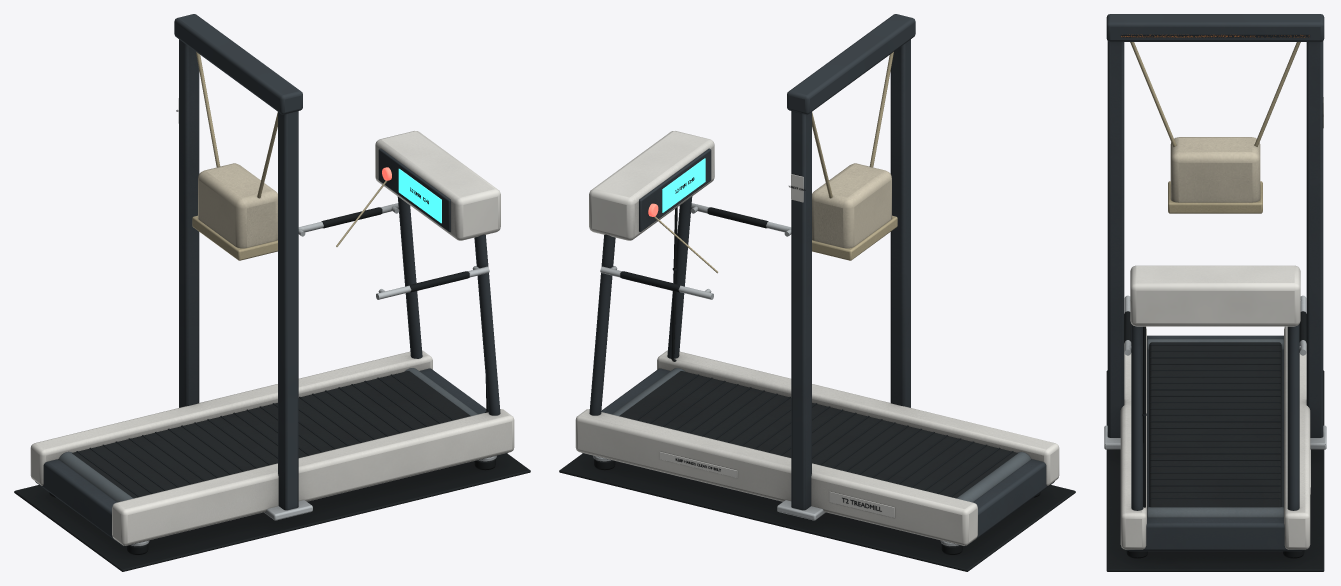
Rendered from treadmill.glb.
3 renders of one model, left to right at view 1: azimuth 30°, elevation 25°; view 2: azimuth 150°, elevation 25°; view 3: azimuth 270°, elevation 25°, orthographic.
Parts seen in each view (by area): view 1: belt_bed_belt_rubber, side_cover_right_shell_white, floor_mat_black_rubber, gantry_post_r_frame_graphite, side_cover_left_shell_white, gantry_post_l_frame_graphite, console_body_shell_white, Harness_vest_nomex_fabric, gantry_beam_frame_graphite, deck_frame_frame_graphite, Belt_Slats_deep_graphite, mast_r_frame_graphite (+6 smaller); view 2: belt_bed_belt_rubber, side_cover_left_shell_white, floor_mat_black_rubber, gantry_post_l_frame_graphite, side_cover_right_shell_white, gantry_post_r_frame_graphite, console_body_shell_white, Harness_vest_nomex_fabric, gantry_beam_frame_graphite, deck_frame_frame_graphite, Belt_Slats_deep_graphite, mast_l_frame_graphite (+8 smaller); view 3: belt_bed_belt_rubber, console_body_shell_white, floor_mat_black_rubber, gantry_post_l_frame_graphite, gantry_post_r_frame_graphite, deck_frame_frame_graphite, gantry_beam_frame_graphite, Harness_vest_nomex_fabric, Belt_Slats_deep_graphite, side_cover_left_shell_white, side_cover_right_shell_white, mast_l_frame_graphite (+6 smaller).
Part boxes in pixels (x1,y1,x2,y2): belt_bed_belt_rubber: [72, 371, 470, 498]; side_cover_right_shell_white: [112, 409, 514, 545]; floor_mat_black_rubber: [14, 453, 530, 571]; gantry_post_r_frame_graphite: [278, 111, 298, 510]; side_cover_left_shell_white: [30, 350, 432, 485]; gantry_post_l_frame_graphite: [179, 39, 199, 407]; console_body_shell_white: [375, 131, 500, 240]; Harness_vest_nomex_fabric: [198, 163, 277, 248]; gantry_beam_frame_graphite: [174, 14, 302, 114]; deck_frame_frame_graphite: [35, 368, 507, 546]; Belt_Slats_deep_graphite: [76, 374, 453, 496]; mast_r_frame_graphite: [474, 234, 500, 415]; belt_bed_belt_rubber: [619, 371, 1017, 498]; side_cover_left_shell_white: [575, 409, 977, 545]; floor_mat_black_rubber: [559, 453, 1075, 571]; gantry_post_l_frame_graphite: [791, 111, 811, 510]; side_cover_right_shell_white: [657, 350, 1059, 485]; gantry_post_r_frame_graphite: [890, 39, 910, 407]; console_body_shell_white: [589, 131, 714, 240]; Harness_vest_nomex_fabric: [812, 163, 891, 248]; gantry_beam_frame_graphite: [787, 14, 915, 114]; deck_frame_frame_graphite: [582, 368, 1054, 546]; Belt_Slats_deep_graphite: [636, 374, 1013, 496]; mast_l_frame_graphite: [589, 234, 615, 415]; belt_bed_belt_rubber: [1149, 342, 1281, 507]; console_body_shell_white: [1130, 265, 1300, 326]; floor_mat_black_rubber: [1106, 370, 1324, 571]; gantry_post_l_frame_graphite: [1306, 41, 1323, 437]; gantry_post_r_frame_graphite: [1107, 41, 1124, 437]; deck_frame_frame_graphite: [1126, 335, 1304, 551]; gantry_beam_frame_graphite: [1106, 14, 1324, 41]; Harness_vest_nomex_fabric: [1170, 137, 1260, 202]; Belt_Slats_deep_graphite: [1150, 344, 1280, 499]; side_cover_left_shell_white: [1284, 326, 1310, 549]; side_cover_right_shell_white: [1120, 327, 1146, 549]; mast_l_frame_graphite: [1287, 324, 1299, 510].
Size of the model in its own units: 2 by 2.04 by 0.94.
Materials: 4 (1 with a texture image).
